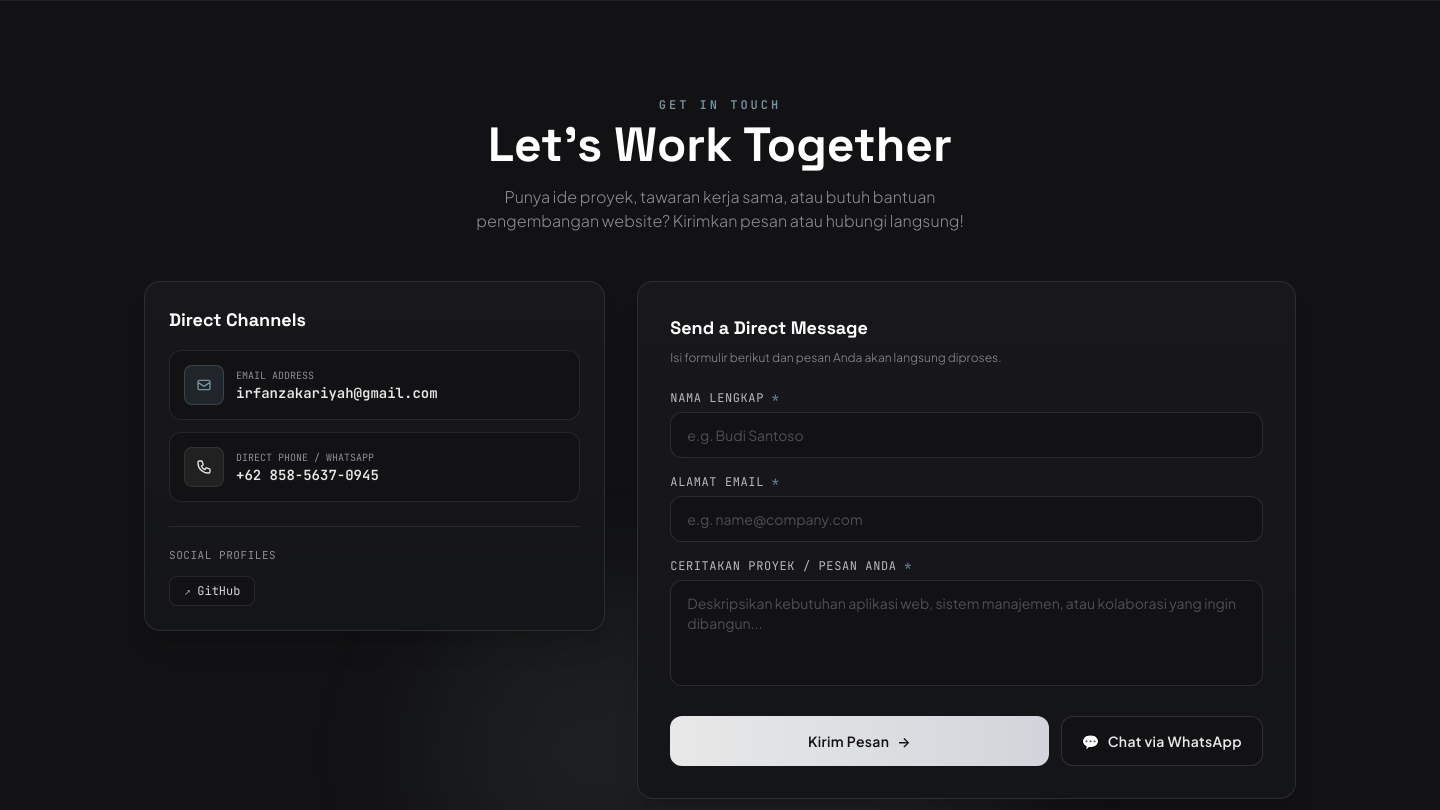
Test case: ContactSection Component › should handle form submission feedback
Type "Budi Santoso" into the field labelled "Nama Lengkap *" at (967, 435), box left=670, top=412, right=1263, bottom=458
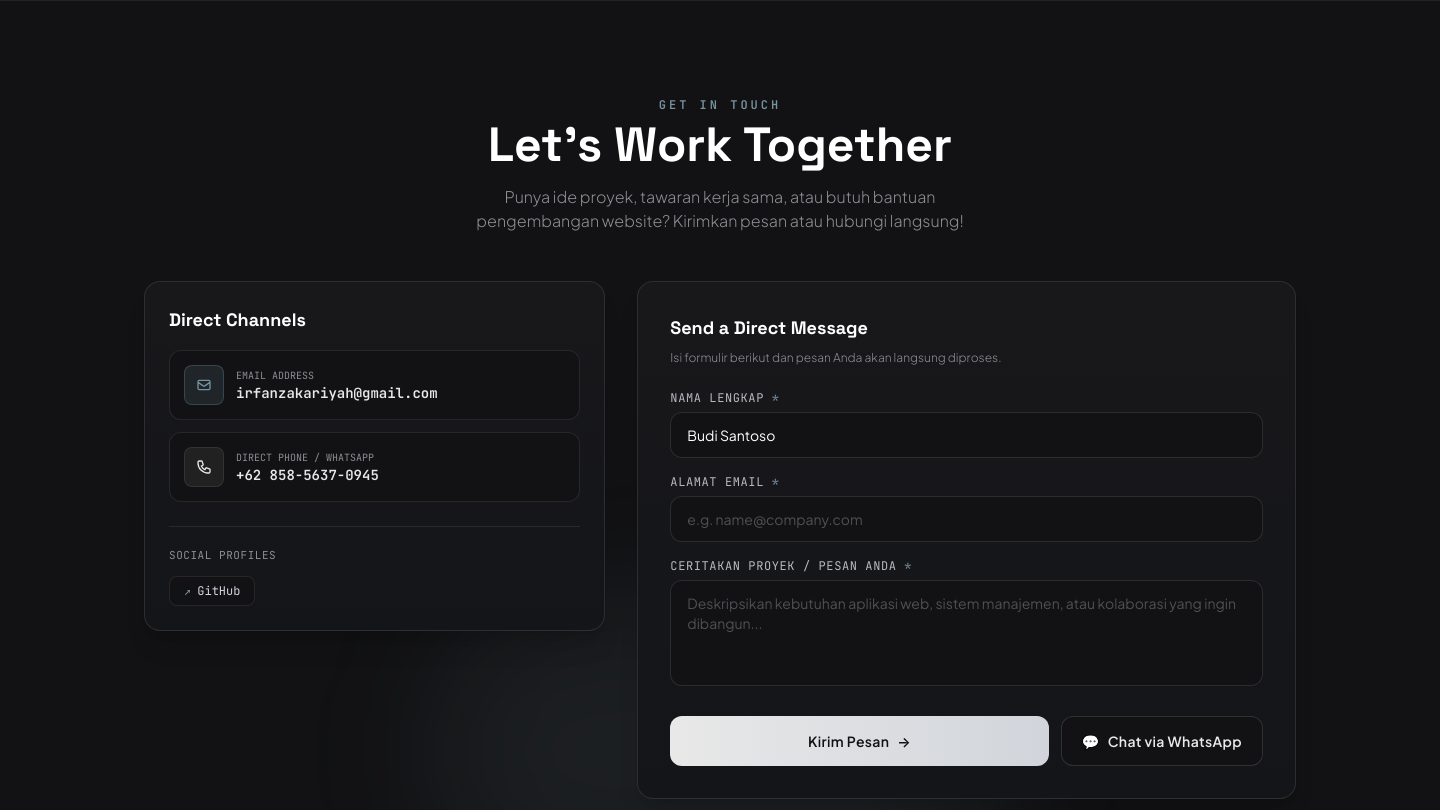
Type "budi@example.com" into the field labelled "Alamat Email *" at (967, 519), box left=670, top=496, right=1263, bottom=542
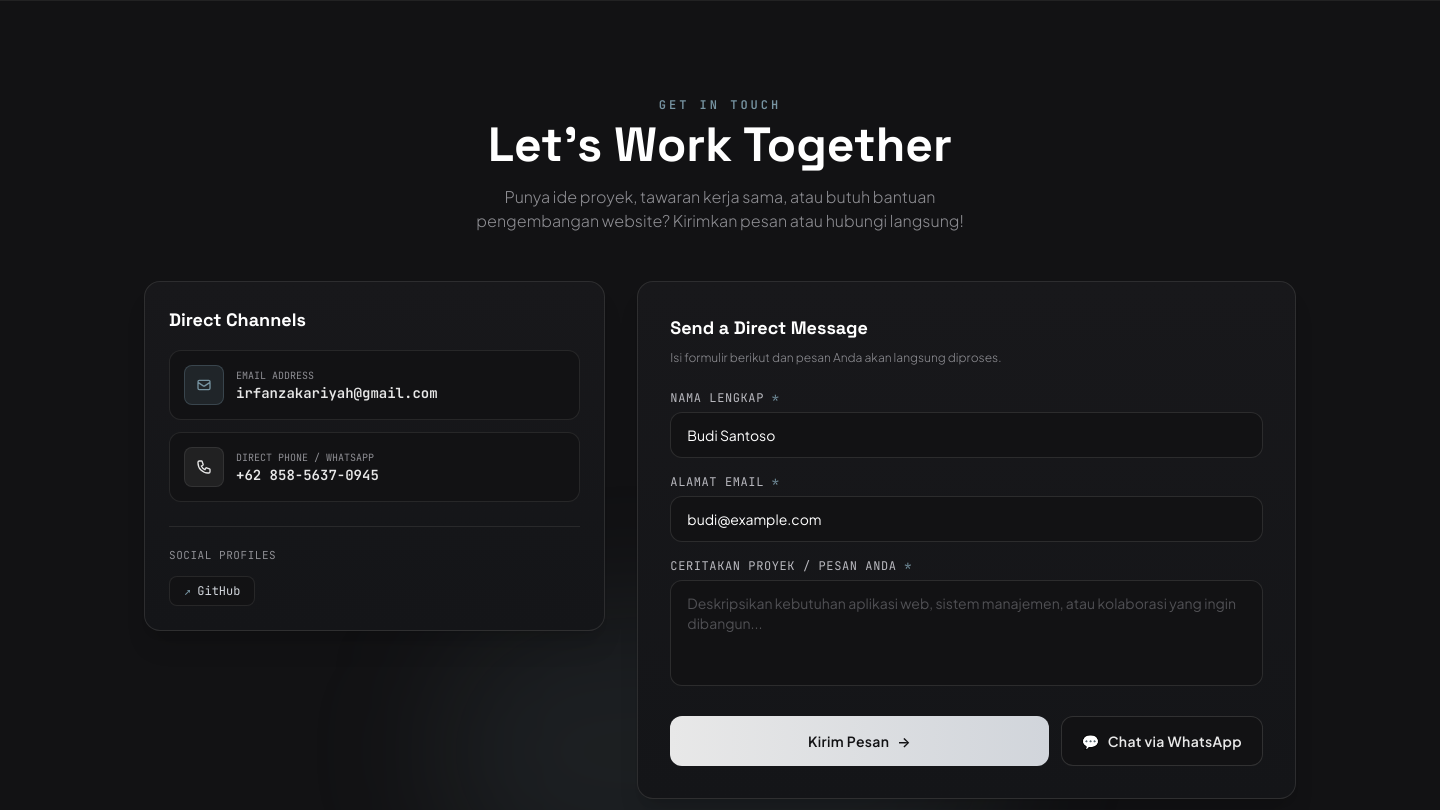
Replace the text in the text box labelled "Ceritakan Proyek / Pesan Anda *" with "Saya ingin membuat website company profile." at (967, 633), box left=670, top=580, right=1263, bottom=686
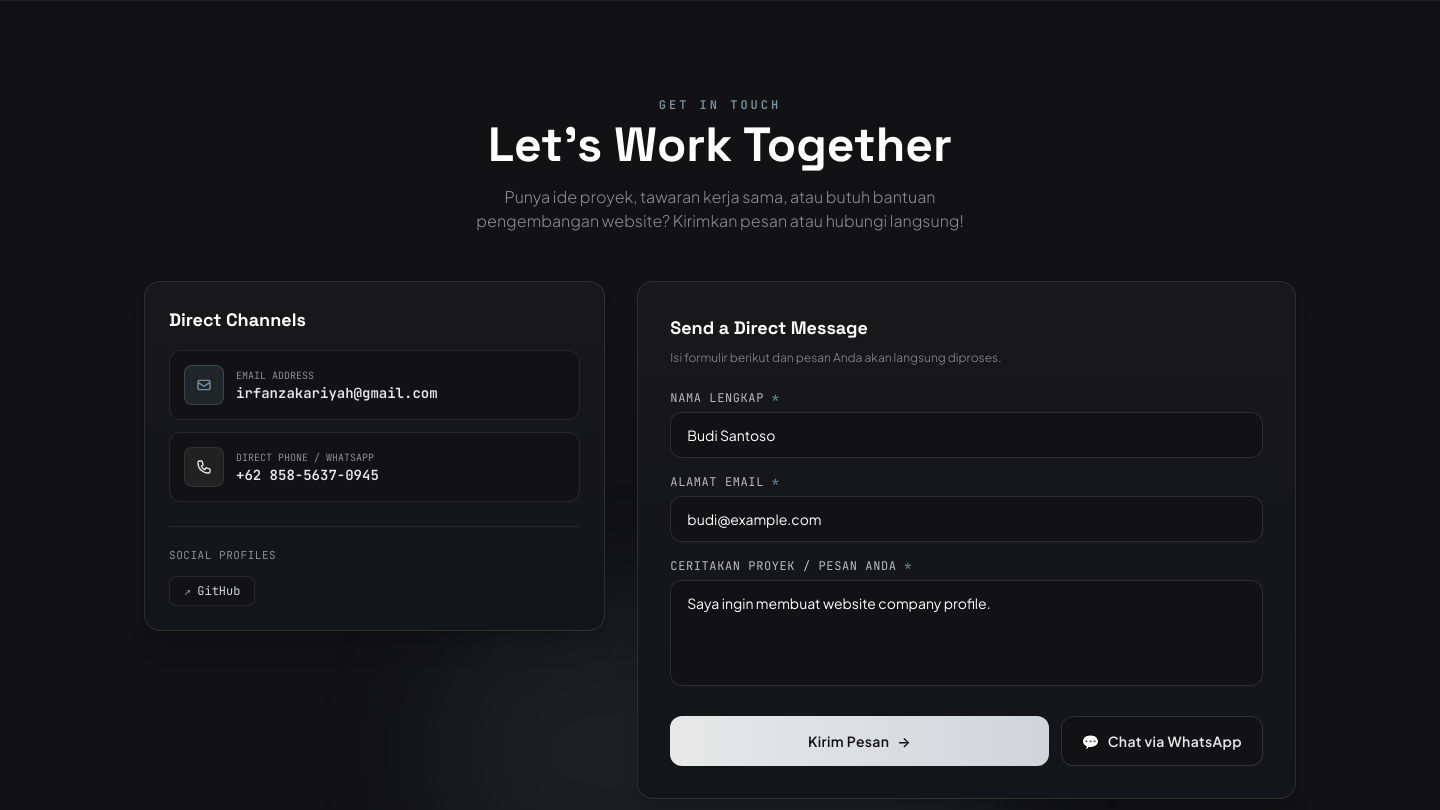
Click the button "Kirim Pesan →" at (860, 741), box left=670, top=716, right=1049, bottom=766
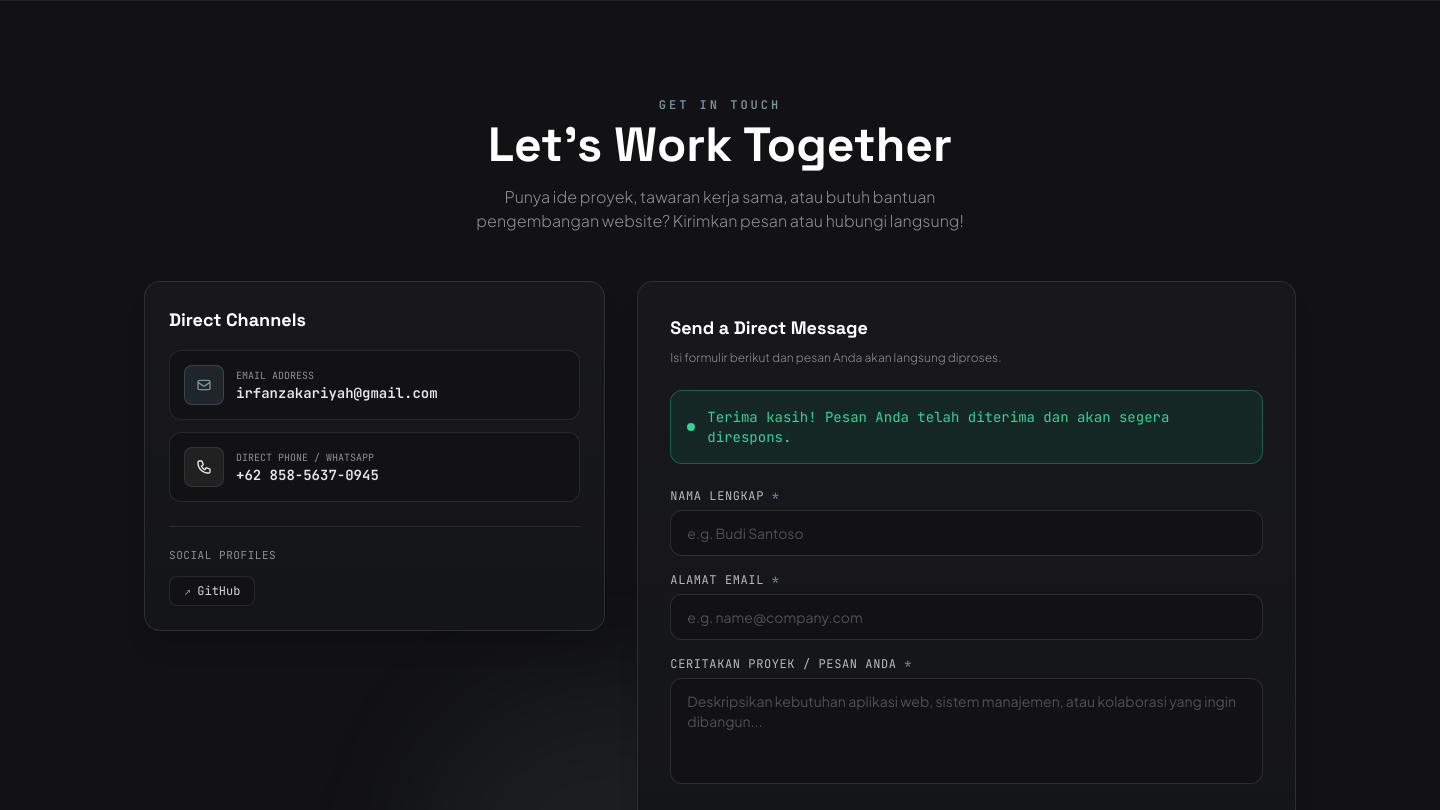
Check: the message "Terima kasih! Pesan Anda telah diterima dan akan segera direspons." is shown, box left=670, top=390, right=1263, bottom=464
Check: the text "Pesan Anda telah diterima" is shown, box left=707, top=408, right=1169, bottom=446
